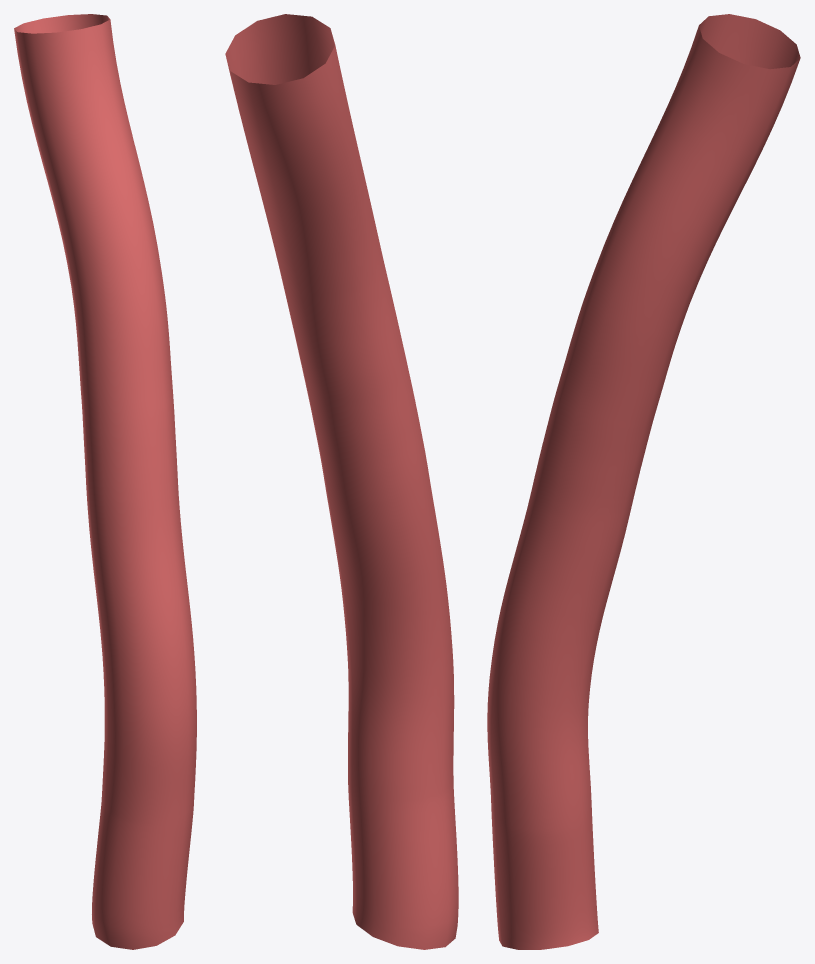
The model's file is Abdominal_aorta.glb.
3 views of the same model, side by side, from view 1: azimuth 30°, elevation 25°; view 2: azimuth 150°, elevation 25°; view 3: azimuth 270°, elevation 25° (orthographic). The views are drawn at different scales.
Visible parts, largest first — view 1: Abdominal_aorta_BezierCurve.204; view 2: Abdominal_aorta_BezierCurve.204; view 3: Abdominal_aorta_BezierCurve.204.
Part boxes in pixels (bbox=[...]): Abdominal_aorta_BezierCurve.204: bbox=[14, 14, 196, 949]; Abdominal_aorta_BezierCurve.204: bbox=[225, 14, 458, 949]; Abdominal_aorta_BezierCurve.204: bbox=[487, 14, 800, 949].
Bounding box in the file's own units: 0.0229 × 0.1819 × 0.0557.
